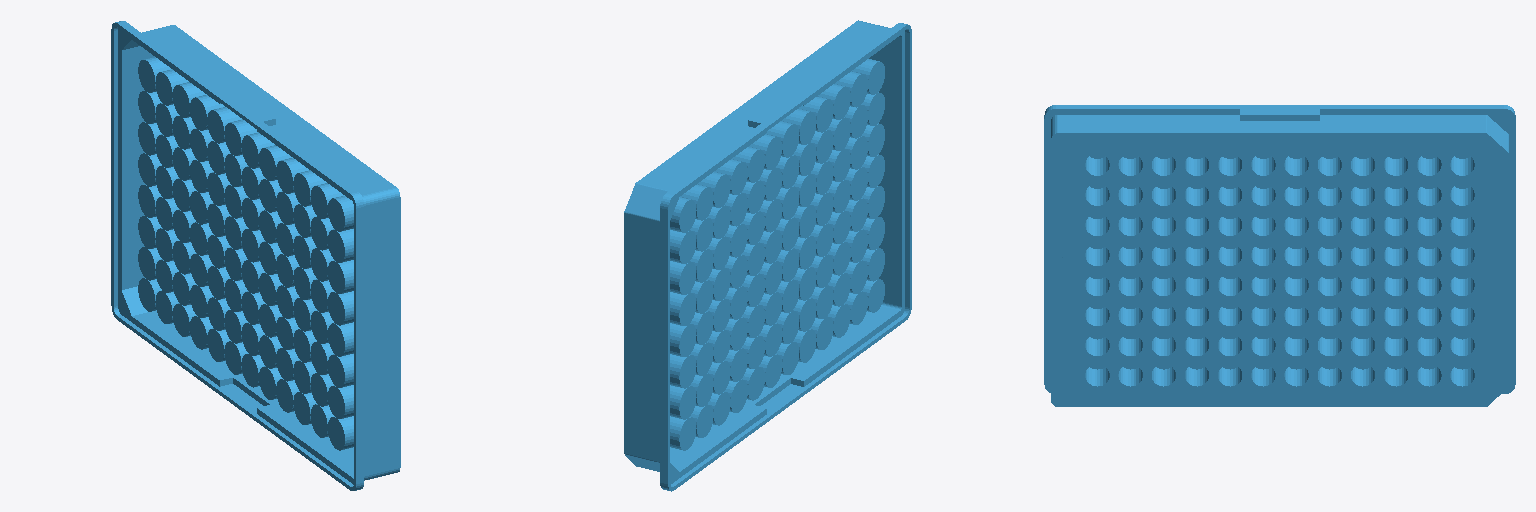
robot.urdf — uplate:
<?xml version="1.0" ?>
<robot name="uplate">
    <material name="mat">
        <texture filename="uplate.mtl"/>
    </material>

    <link name="base_link"/>

    <!--    Define the mounting plates for the robot arms-->
    <link name="uplate_link">
        <visual>
            <origin xyz="0 0 0" rpy="0 0 0"/>
            <geometry>
                <mesh filename="uplate.obj" scale="0.01 0.01 0.01"/>
            </geometry>
        </visual>
<!--        <collision>-->
<!--            <origin xyz="0.00725 0 0" rpy="0 0 0"/>-->
<!--            <geometry>-->
<!--                <box size="0.0142 0.1285 0.08548"/>-->
<!--            </geometry>-->
<!--        </collision>-->
        <inertial>
            <mass value="0.100"/>
        </inertial>
    </link>

    <joint name="base_link_2_uplate_link" type="fixed">
        <parent link="base_link"/>
        <child link="uplate_link"/>
        <origin xyz="0 0.0 0.00" rpy="0 0 0"/>
    </joint>

<!--    Virtual frames -->
</robot>

--- Facts derived from the render (not from the file) ---
3 views of the same robot in one strip: view 1: azimuth 30°, elevation 25°; view 2: azimuth 150°, elevation 25°; view 3: azimuth 270°, elevation 25° (orthographic).
Robot: uplate — 2 links, 1 joints (1 fixed); root link base_link; default pose: all joints at 0.
Links seen in each view (by area): view 1: uplate_link; view 2: uplate_link; view 3: uplate_link.
Boxes of the visible links, x1,y1,x2,y2 form: uplate_link: (111, 21, 400, 490); uplate_link: (624, 20, 911, 491); uplate_link: (1044, 105, 1515, 406).
Bounding box of the posed robot: 0.0144 × 0.1278 × 0.0855 m (x, y, z).
1 mesh visuals loaded from 1 distinct referenced files (1 OBJ).
